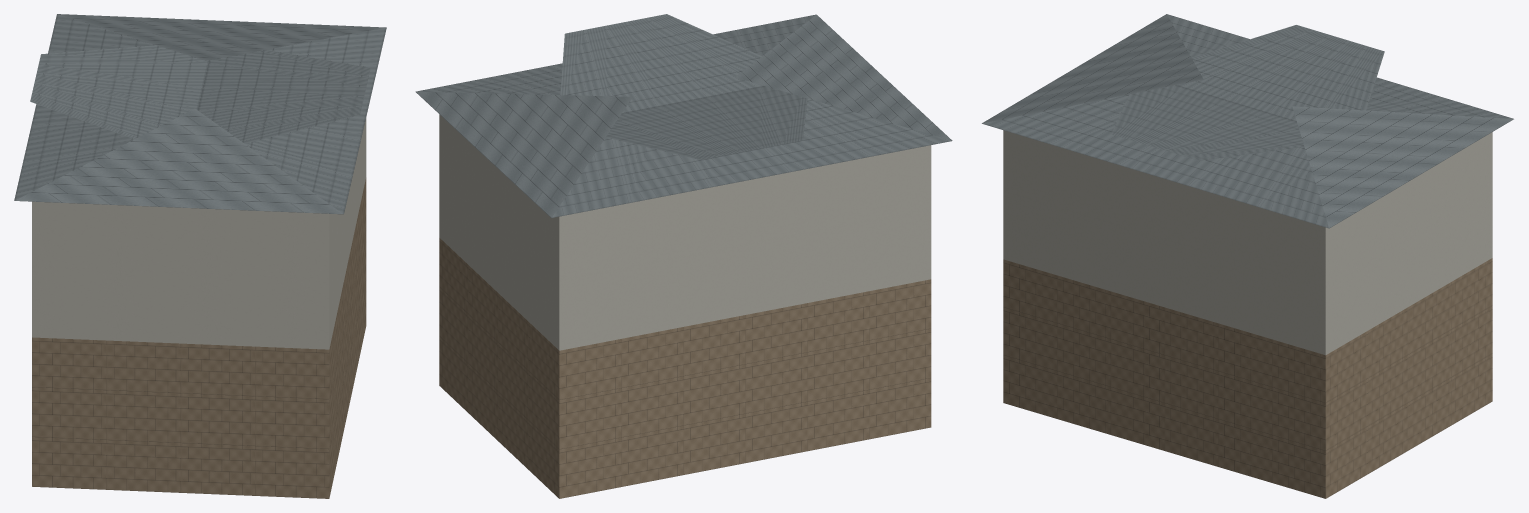
The model's file is bld_c10_28_402.gltf.
3 views of the same model, side by side, from view 1: azimuth 30°, elevation 25°; view 2: azimuth 150°, elevation 25°; view 3: azimuth 270°, elevation 25° (orthographic). The views are drawn at different scales.
Visible parts, largest first — view 1: bld_c10_28_402; view 2: bld_c10_28_402; view 3: bld_c10_28_402.
Boxes of the visible parts, left/top/right/bottom form: bld_c10_28_402: left=14, top=14, right=386, bottom=498; bld_c10_28_402: left=415, top=14, right=952, bottom=498; bld_c10_28_402: left=982, top=14, right=1513, bottom=498.
Size of the model in its own units: 16.22 by 10.9 by 17.03.
3 materials, 3 textured.
